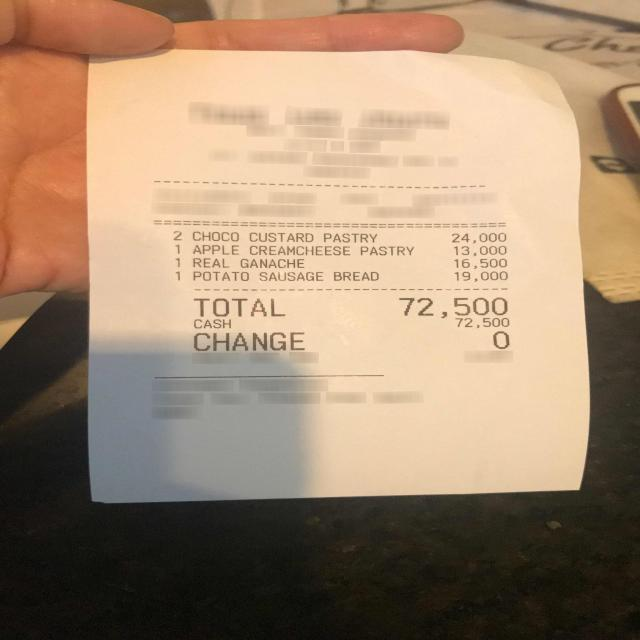kertas: (86, 47, 590, 503)
